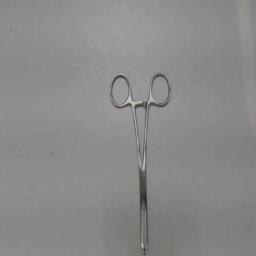Allis Tissue Forceps: (106, 68, 174, 256)
